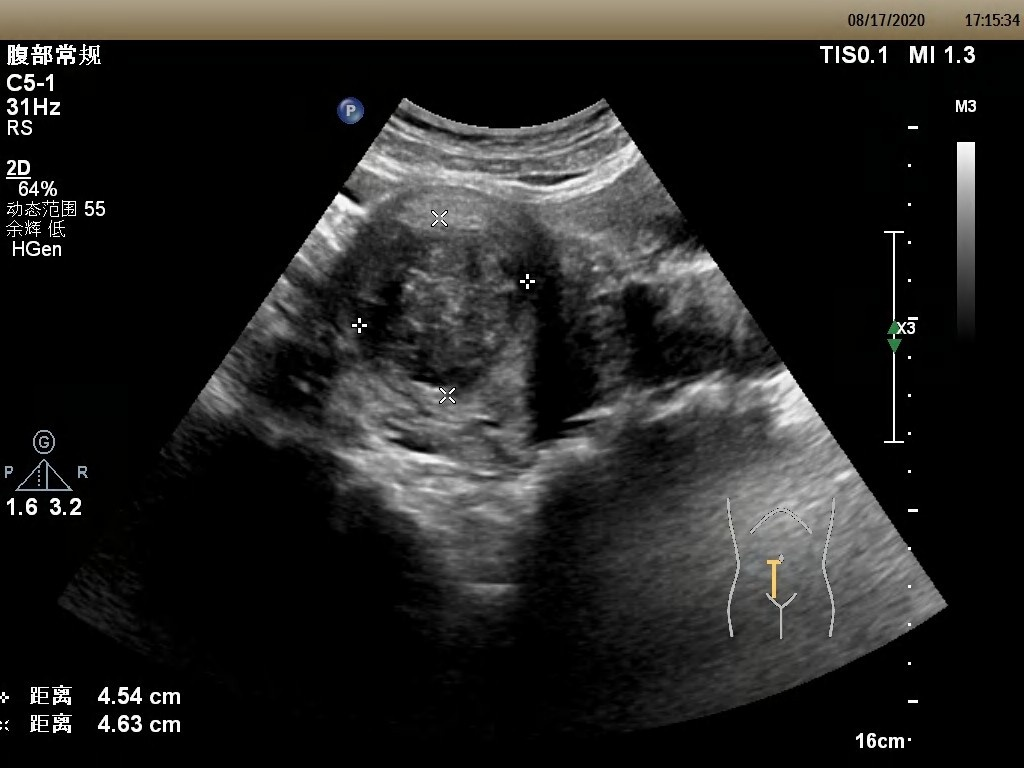肌瘤: (386, 223, 503, 376)
